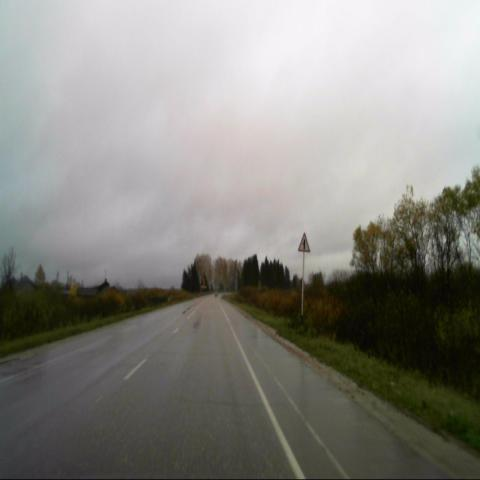2_3_3: (298, 231, 310, 253)
